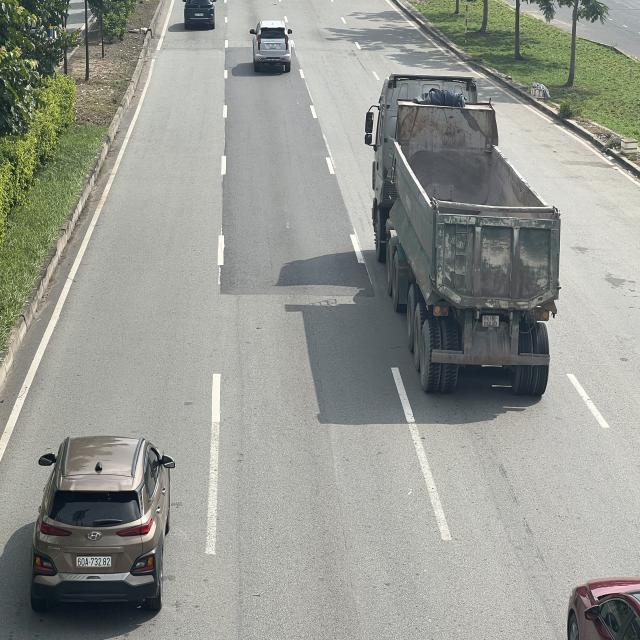car: (34, 437, 179, 616), (250, 17, 293, 69)
container: (362, 69, 560, 393)
